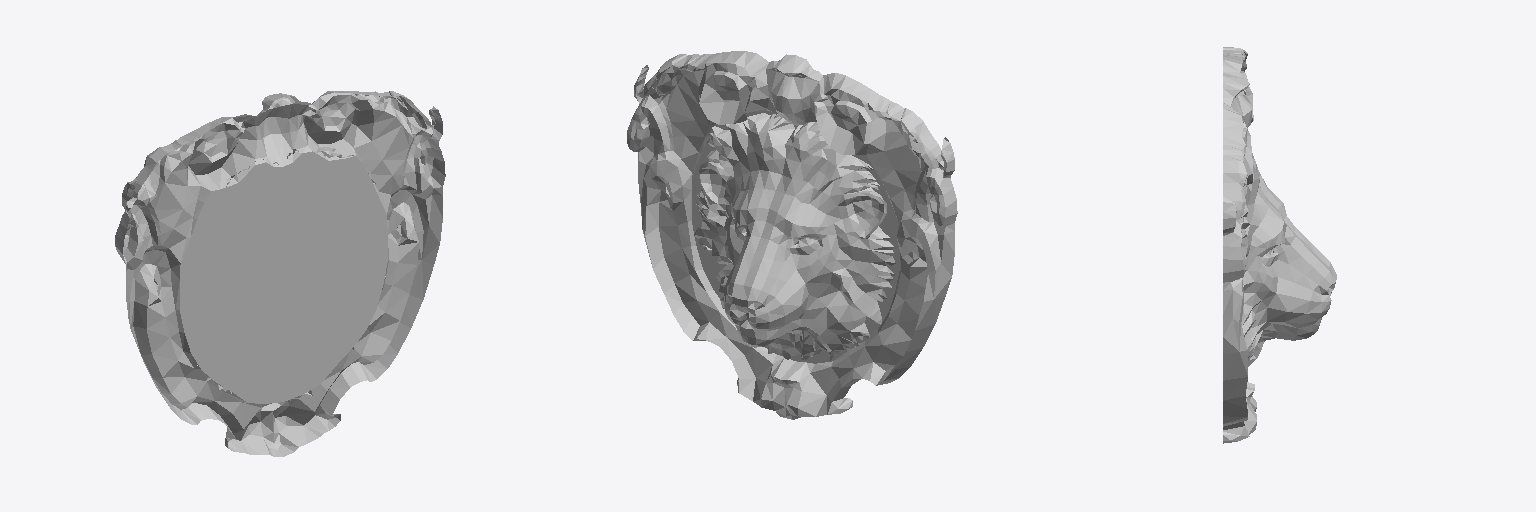
Rendered from lion.obj.
The picture shows the model from 3 angles: view 1: azimuth 30°, elevation 25°; view 2: azimuth 150°, elevation 25°; view 3: azimuth 270°, elevation 25°; orthographic projection.
Parts seen in each view (by area): view 1: sponza_377; view 2: sponza_377; view 3: sponza_377.
Boxes of the visible parts, x1,y1,x2,y2 form: sponza_377: [115, 91, 445, 456]; sponza_377: [627, 51, 957, 419]; sponza_377: [1223, 47, 1336, 443].
Bounding box in the file's own units: 1.89 × 2.02 × 0.5766.